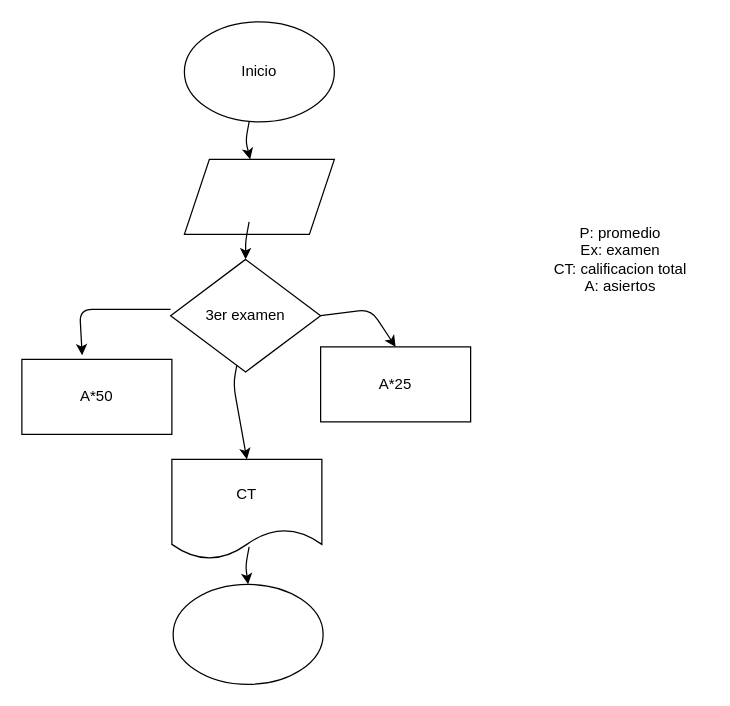
The diagram is 730 pixels wide and 706 high, and some of its shapes have lost their labels. Each missing label, with the centre of its shape:
Fin: point 247,633
P, 3er ex: point 258,196
